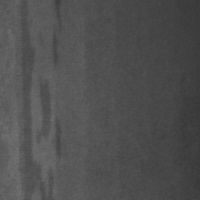inclusion: (15, 1, 38, 199), (35, 73, 64, 160), (47, 1, 64, 68), (34, 166, 55, 200)
